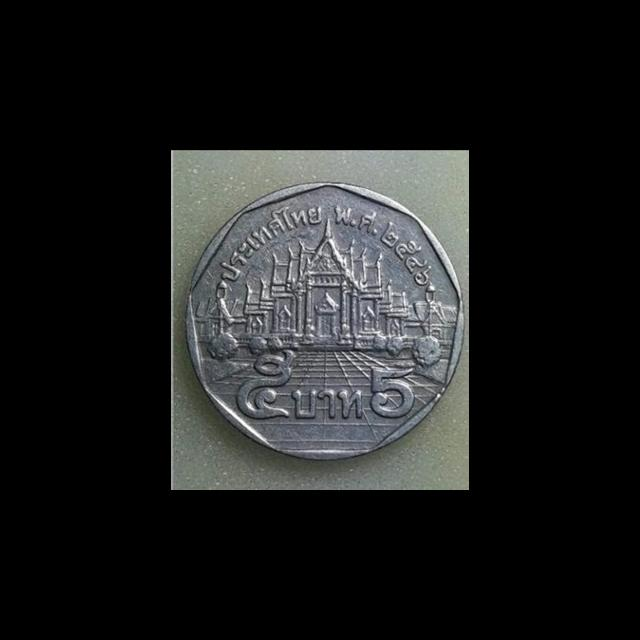5-baht: (175, 173, 464, 475)
